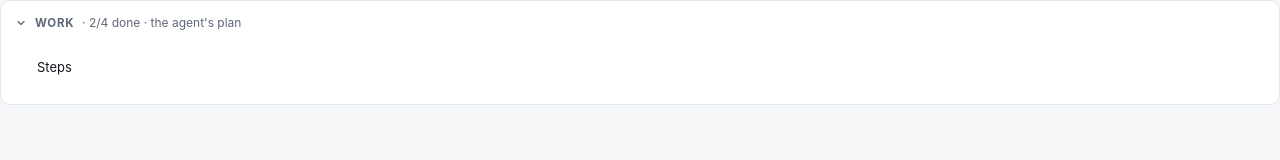
Test case: Section (collapsible, per-type persistence) › toggles with aria-expanded, renders only the header when collapsed, and remembers per type
Later steps or results of the test are not shown.
Expected: the text "Steps" is shown, [37, 59, 72, 75]
Click the button "Work · 2/4 done · the agent's plan" at (55, 23), box [9, 9, 1265, 37]
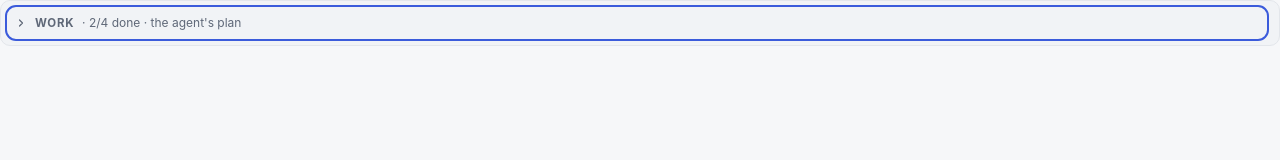
Result: the text "Steps" is gone
